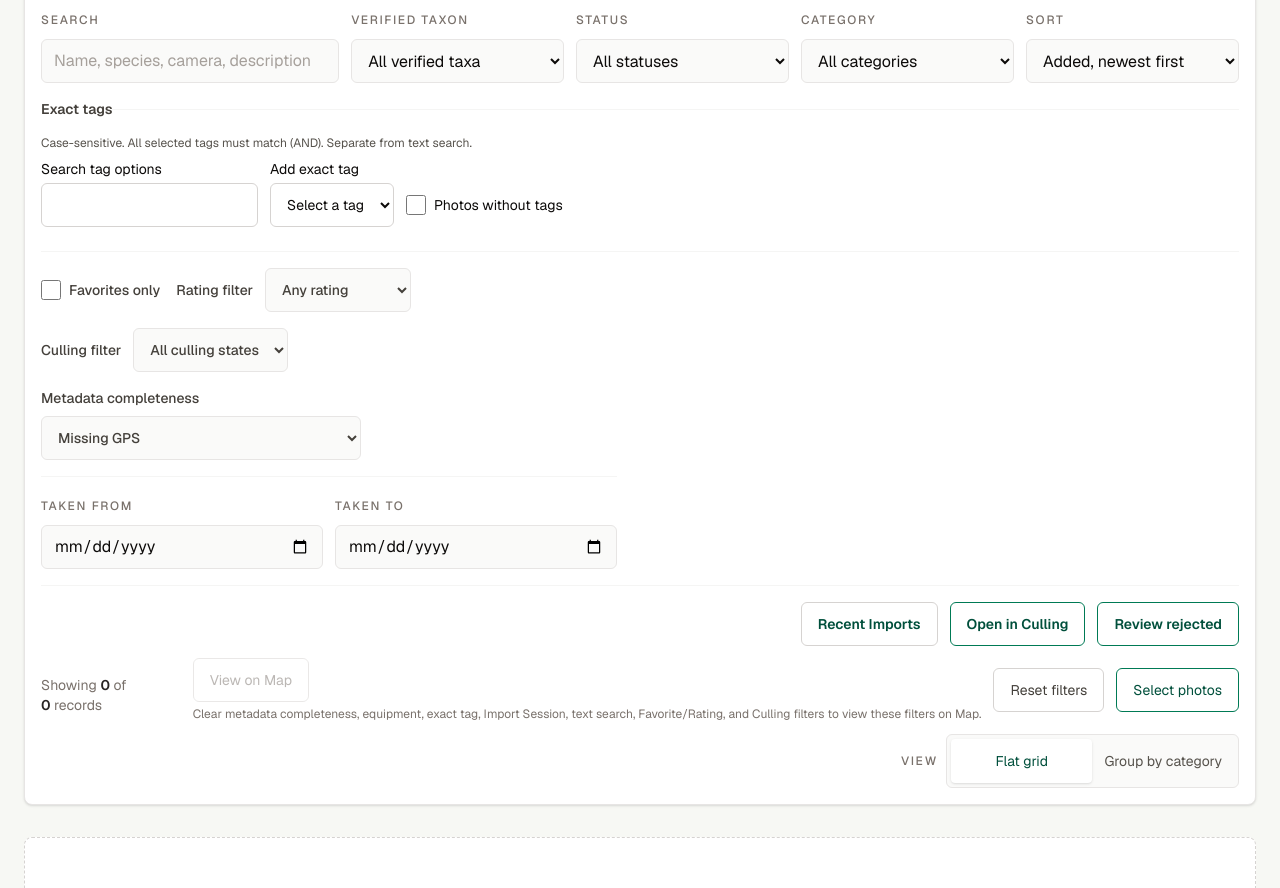
it: List toolbar applies metadata criteria and visibly blocks Smart Collection saves and Map
(page scrolled)
Expected: the button "View on Map" is disabled, 193,658 -> 309,702
Select "Missing capture date" in the dropdown labelled "Metadata completeness" at (201, 438), box 41,416 -> 361,460
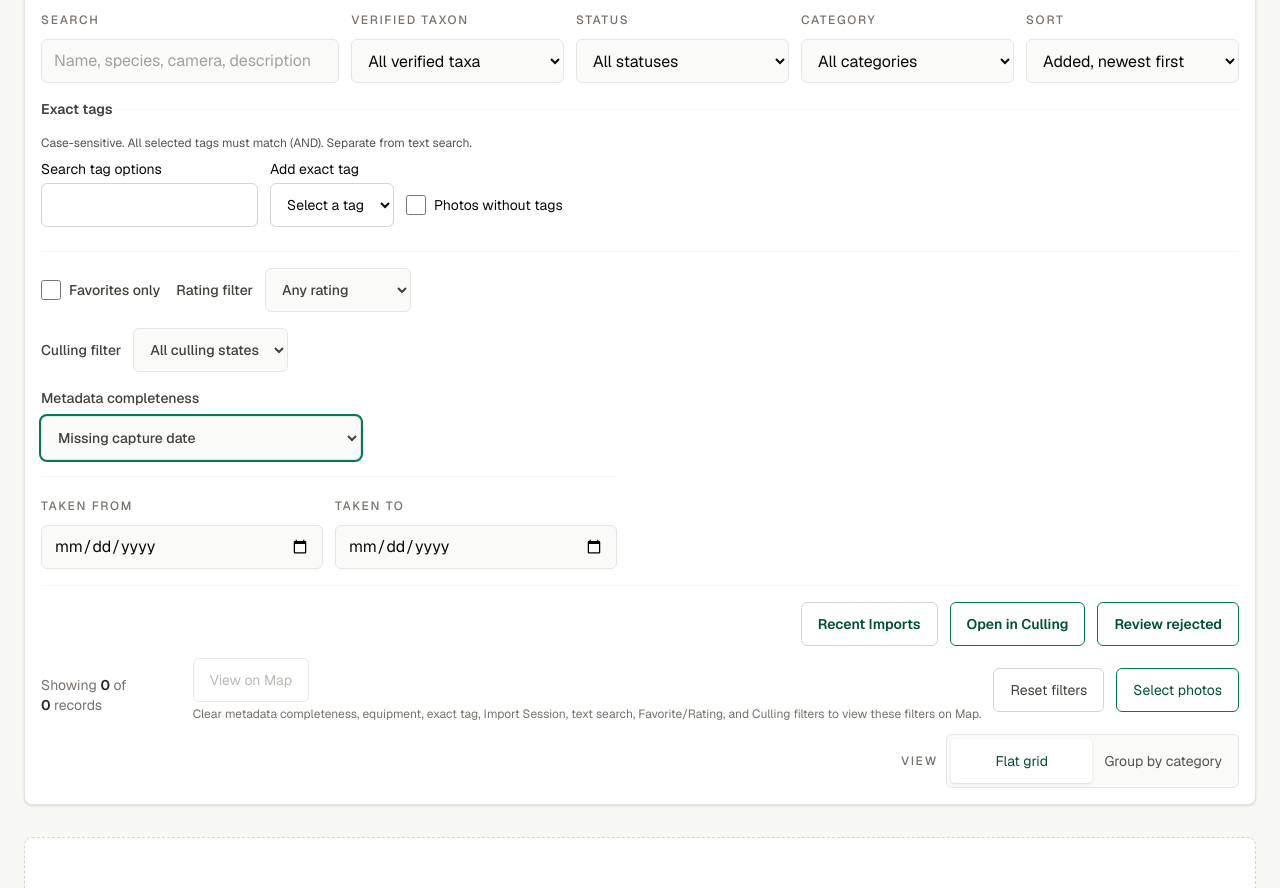
Select "All Photos" in the dropdown labelled "Metadata completeness" at (201, 438), box 41,416 -> 361,460
(page scrolled)
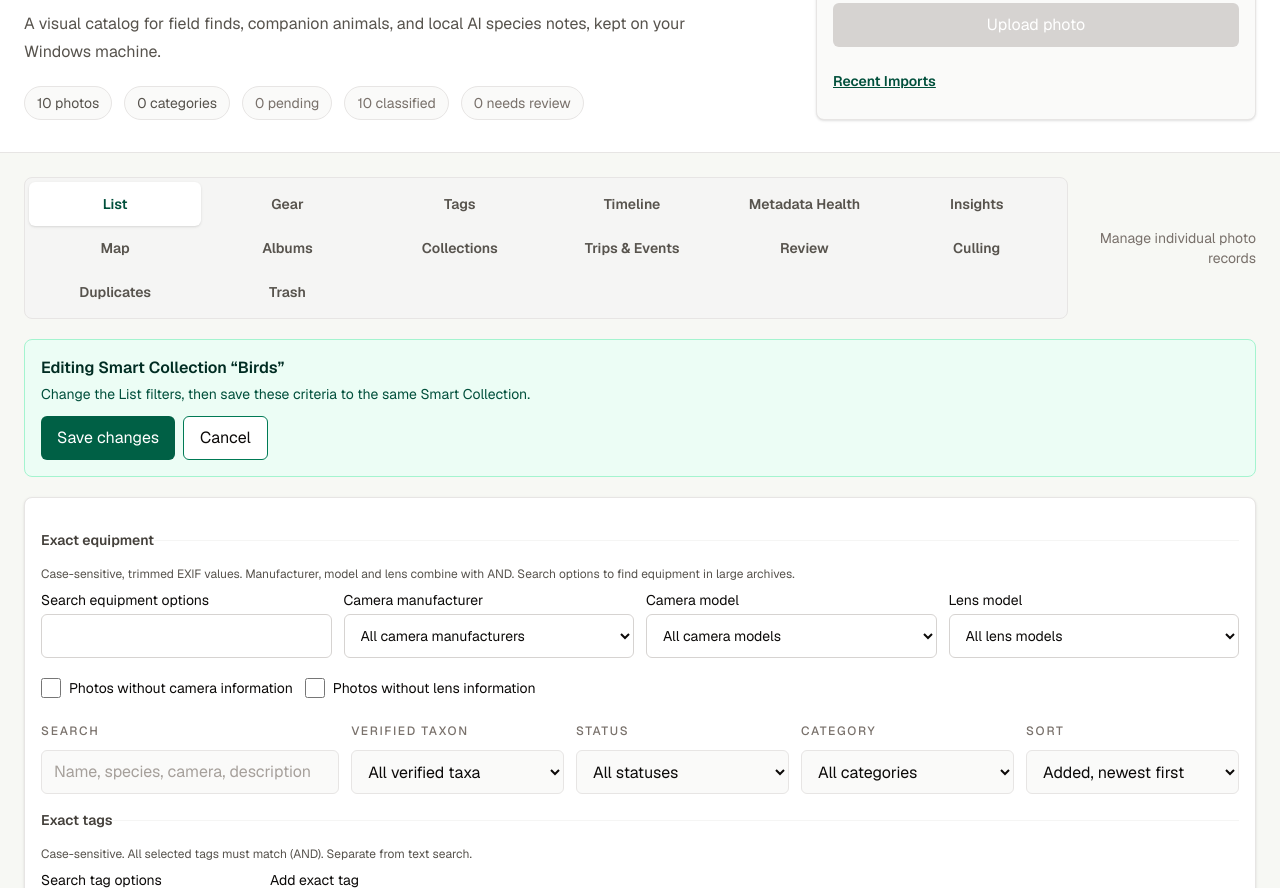
Expected: the button "Save changes" is enabled, 41,416 -> 175,460
